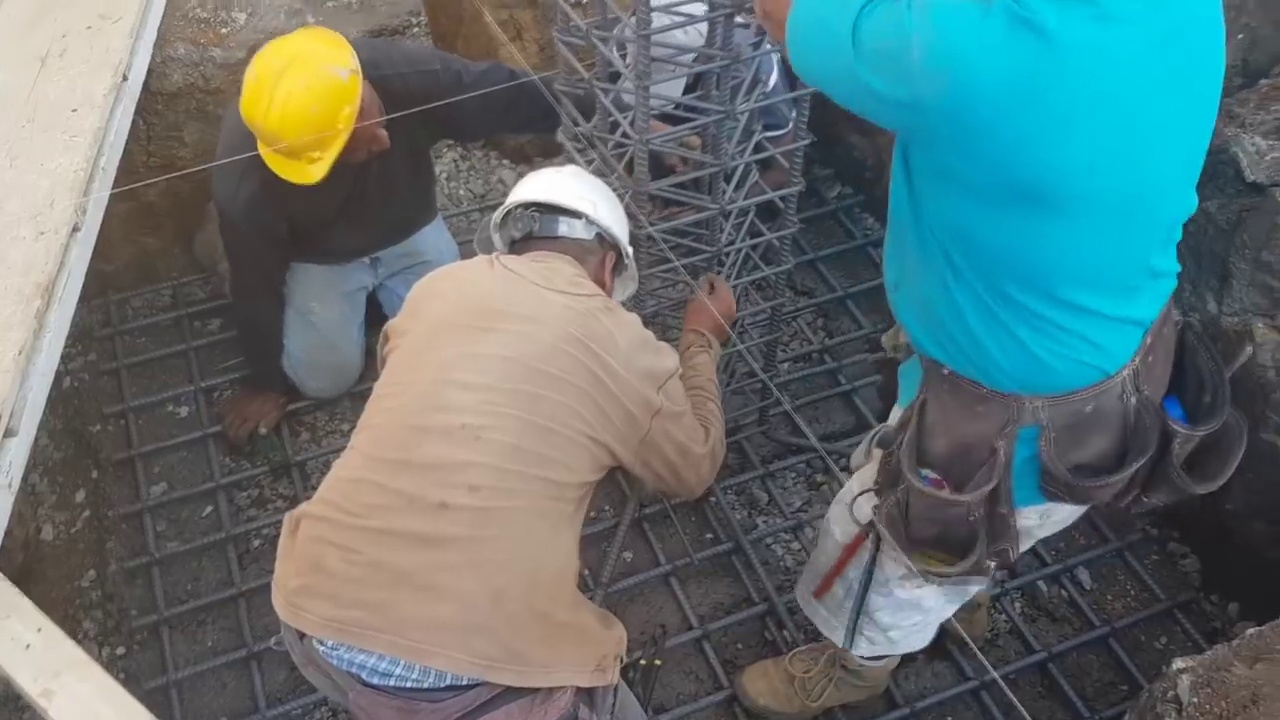helmet: (232, 20, 360, 185), (486, 160, 636, 279)
helmet-off: (612, 0, 718, 123)
helmet-on: (225, 6, 397, 195), (477, 164, 642, 308)
person: (741, 0, 1233, 717), (272, 164, 735, 719), (210, 0, 706, 440), (583, 3, 802, 213)
